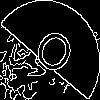O: (25, 25, 78, 86)
